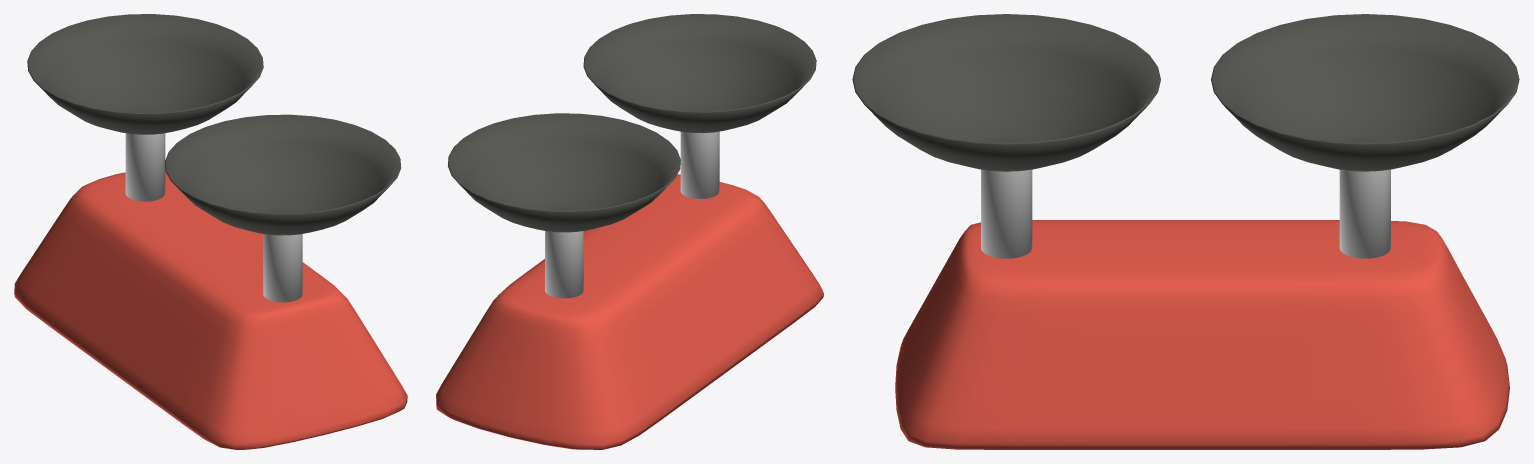
The model's file is scale.fbx.
3 views of the same model, side by side, from view 1: azimuth 30°, elevation 25°; view 2: azimuth 150°, elevation 25°; view 3: azimuth 270°, elevation 25° (orthographic). The views are drawn at different scales.
Visible parts, largest first — view 1: scale, bowl.002, bowl.001; view 2: scale, bowl.001, bowl.002; view 3: scale, bowl.001, bowl.002.
Part boxes in pixels (x1,y1,x2,y2): scale: (14,170,407,449); bowl.002: (27,14,263,201); bowl.001: (165,114,401,302); scale: (436,174,823,449); bowl.001: (583,14,816,198); bowl.002: (448,113,680,298); scale: (895,220,1509,449); bowl.001: (852,14,1160,258); bowl.002: (1211,14,1519,258).
Bounding box in the file's own units: 44.84 × 50.08 × 96.93.
